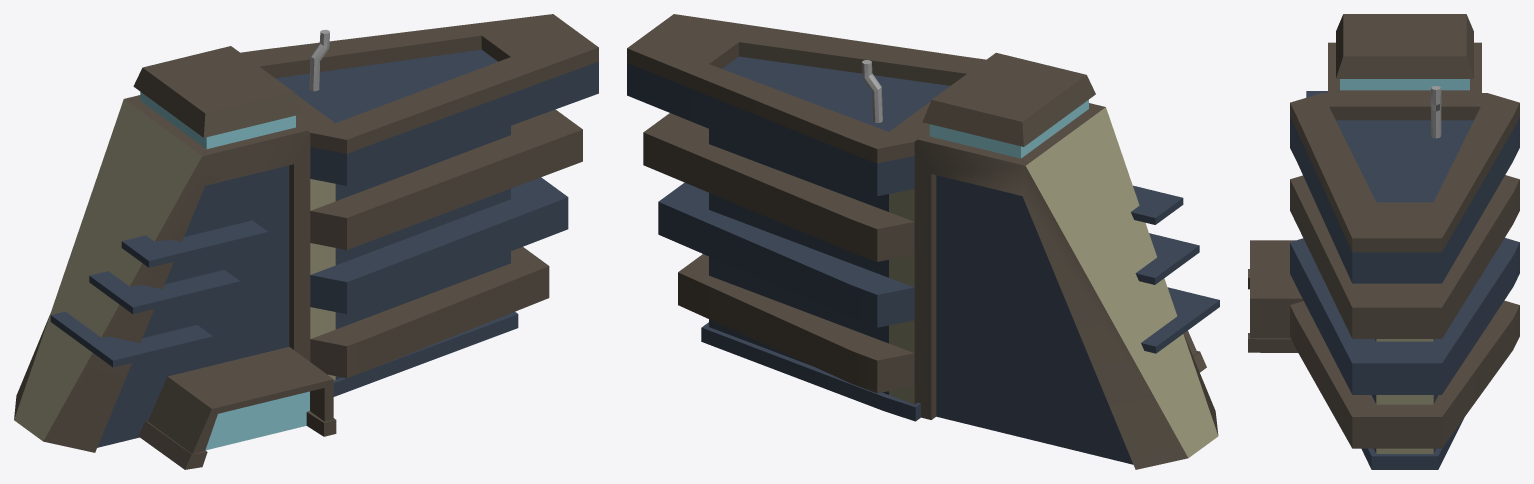
File: Building_Hotel.fbx
The picture shows the model from 3 angles, left to right: view 1: azimuth 30°, elevation 25°; view 2: azimuth 150°, elevation 25°; view 3: azimuth 270°, elevation 25°; orthographic projection. The views are drawn at different scales.
Parts seen in each view (by area): view 1: Building_Hotel; view 2: Building_Hotel; view 3: Building_Hotel.
Part boxes in pixels (x1,y1,x2,y2): Building_Hotel: (14, 14, 598, 469); Building_Hotel: (627, 14, 1219, 469); Building_Hotel: (1248, 14, 1519, 469).
Bounding box in the file's own units: 1505 × 827 × 664.
Materials: 3 (3 with a texture image).
